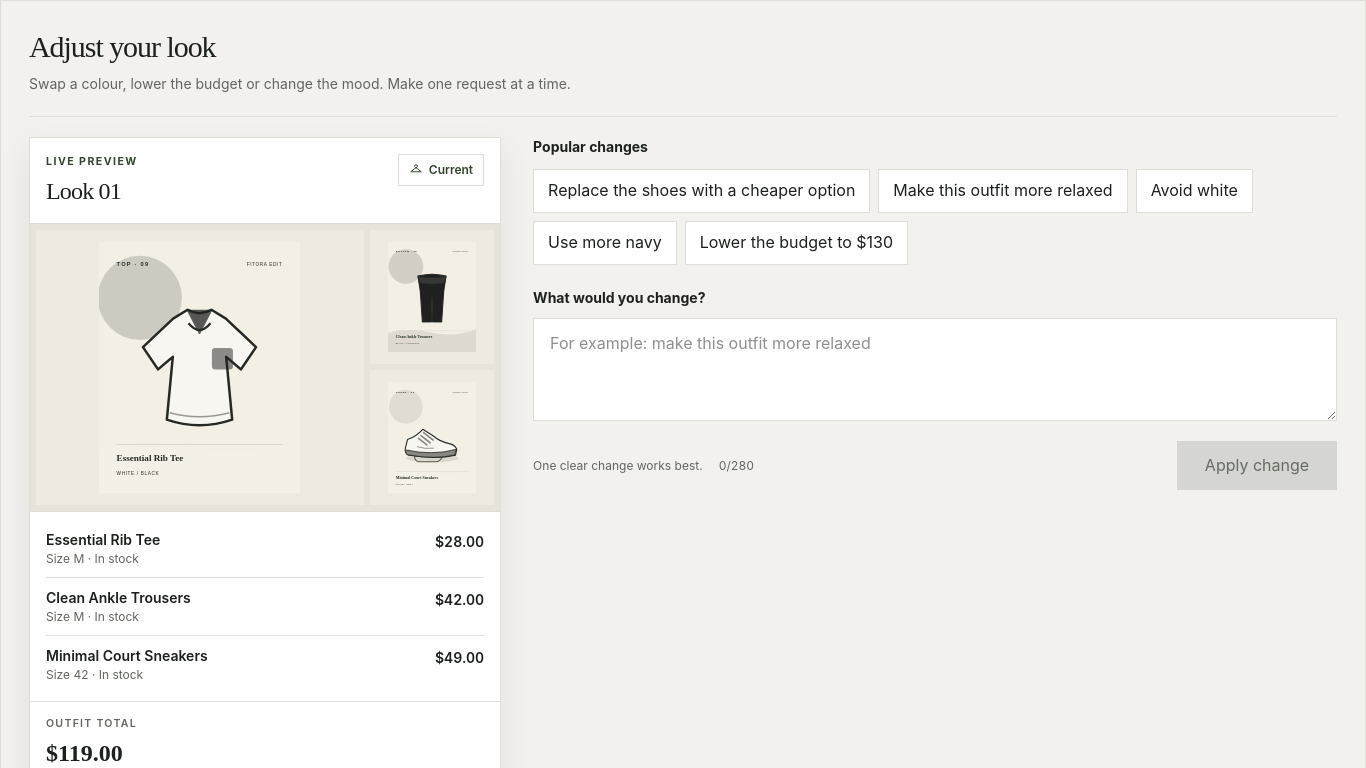
Scenario: AgentPanel › shows the actual provider path and makes checkout review non-transactional
Type "Take me to checkout" into the text box labelled "What would you change?". click: (935, 370)
box: [533,318,1337,421]
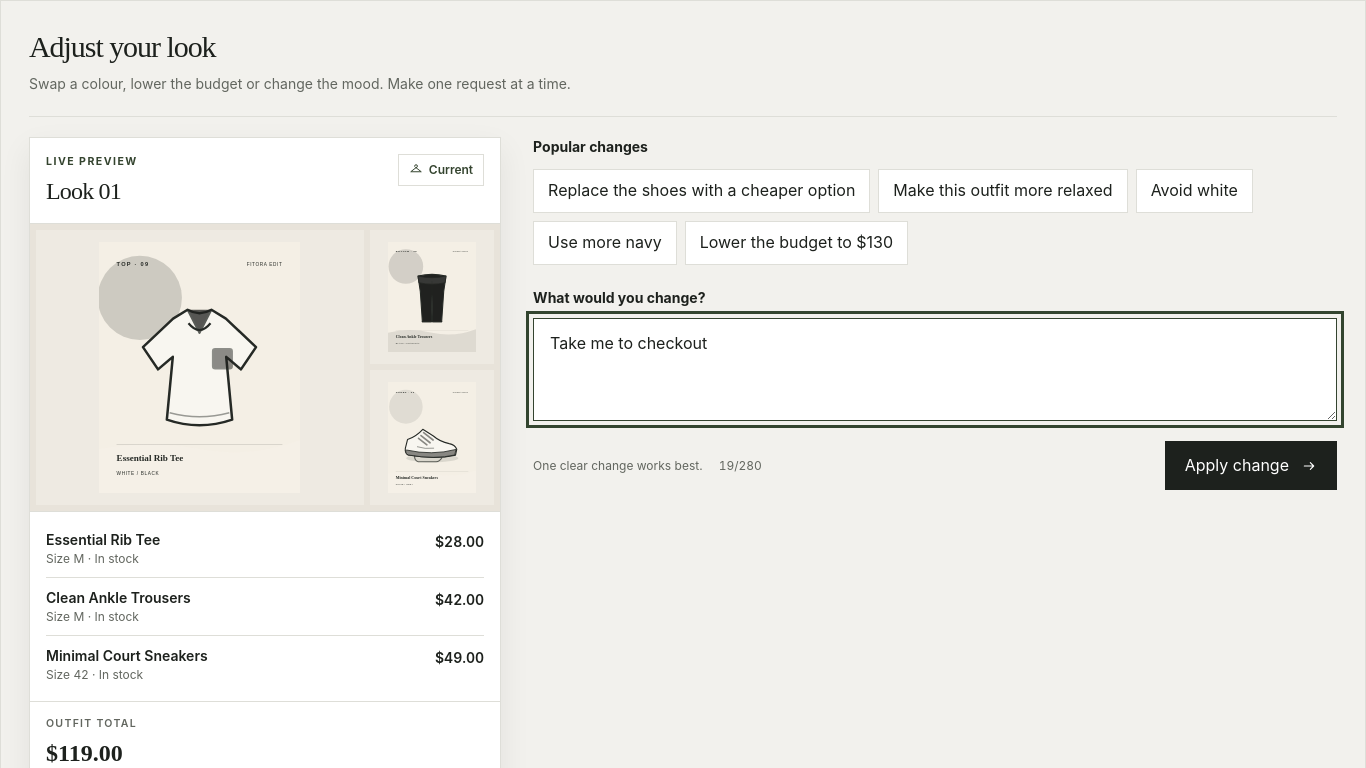
Click the button "Apply change". click: (1251, 466)
box: [1165,441,1337,490]
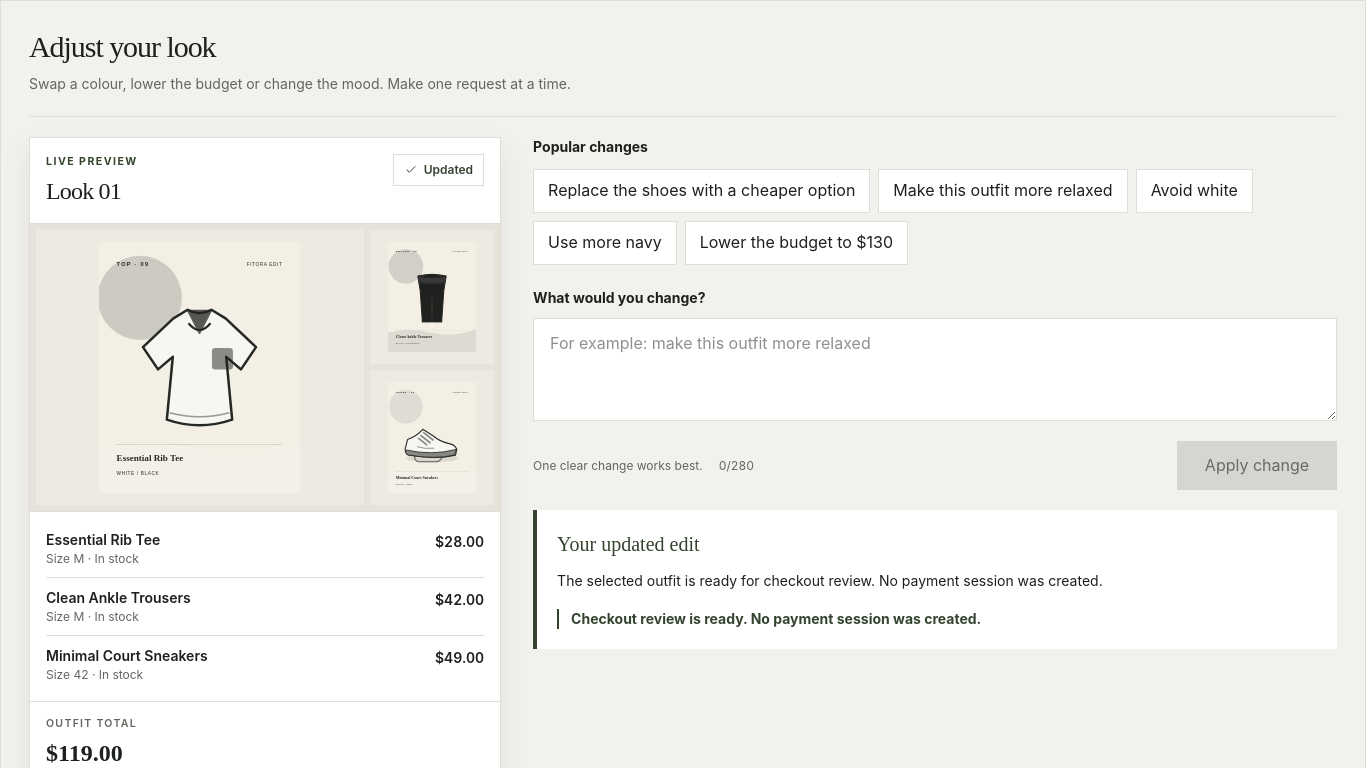
Result: the text "Checkout review is ready. No payment session was created." is shown at [557,609,1317,629]
